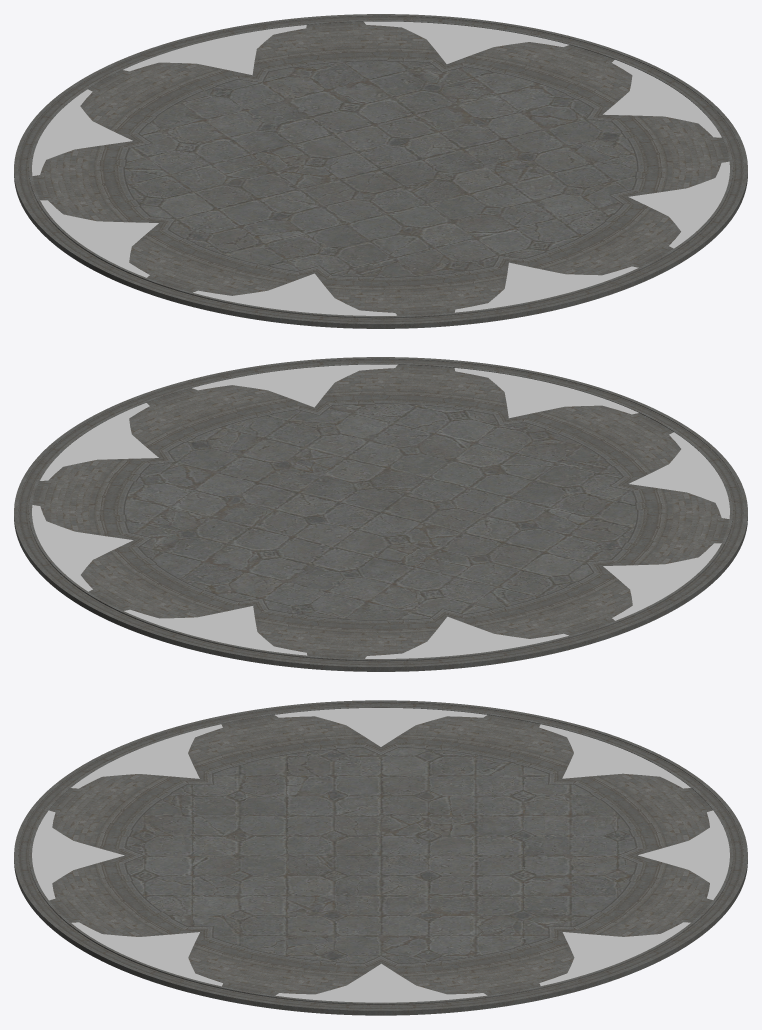
Rendered from bg_rad_kamen_floor12_sm.obj.
3 views of the same model, one above another, from view 1: azimuth 30°, elevation 25°; view 2: azimuth 150°, elevation 25°; view 3: azimuth 270°, elevation 25° (orthographic).
Parts seen in each view (by area): view 1: bg_rad_kamen_floor12_sm_0, bg_rad_kamen_floor12_sm_1, bg_rad_kamen_floor12_sm_2; view 2: bg_rad_kamen_floor12_sm_0, bg_rad_kamen_floor12_sm_1, bg_rad_kamen_floor12_sm_2; view 3: bg_rad_kamen_floor12_sm_0, bg_rad_kamen_floor12_sm_1, bg_rad_kamen_floor12_sm_2.
Part boxes in pixels (x1,y1,x2,y2): bg_rad_kamen_floor12_sm_0: [124, 61, 637, 277]; bg_rad_kamen_floor12_sm_1: [14, 14, 747, 328]; bg_rad_kamen_floor12_sm_2: [32, 21, 729, 315]; bg_rad_kamen_floor12_sm_0: [124, 404, 637, 620]; bg_rad_kamen_floor12_sm_1: [14, 357, 747, 671]; bg_rad_kamen_floor12_sm_2: [32, 364, 729, 658]; bg_rad_kamen_floor12_sm_0: [126, 747, 635, 963]; bg_rad_kamen_floor12_sm_1: [14, 700, 747, 1015]; bg_rad_kamen_floor12_sm_2: [32, 708, 729, 1002].
Size of the model in its own units: 24.79 by 0.2 by 24.77.
3 materials, 2 textured.
